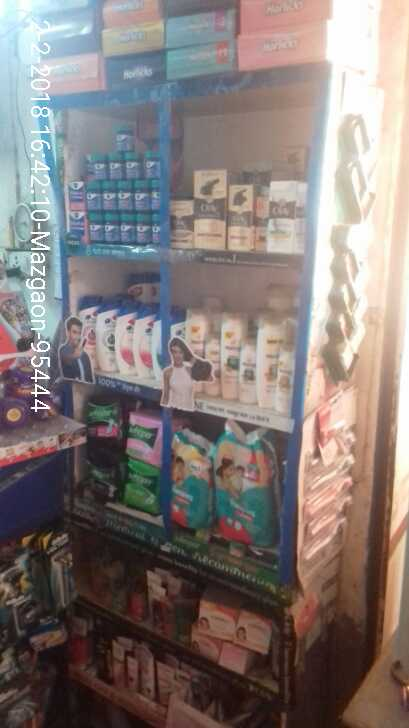beauty: (218, 316, 252, 402), (192, 169, 226, 253), (253, 315, 282, 411), (267, 186, 302, 254), (226, 183, 257, 250), (131, 309, 158, 381), (94, 302, 115, 377), (111, 307, 134, 375), (274, 348, 296, 415)
pharmacy: (214, 417, 279, 551), (169, 428, 211, 529), (123, 408, 165, 463), (123, 459, 159, 515), (78, 397, 110, 439), (112, 122, 135, 154), (124, 151, 142, 185), (70, 211, 86, 245), (134, 215, 152, 245), (67, 179, 84, 209), (101, 183, 115, 215), (131, 185, 147, 213), (86, 217, 103, 243), (101, 216, 116, 245), (117, 184, 131, 215), (143, 158, 160, 182), (91, 156, 106, 183), (88, 185, 101, 214), (108, 156, 121, 183), (120, 220, 134, 245)
